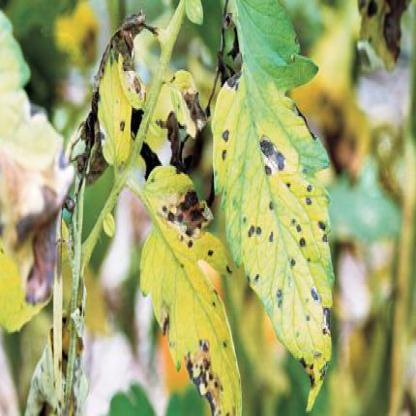tomato leaf bacterial spot: (216, 69, 334, 393), (134, 168, 237, 414)
